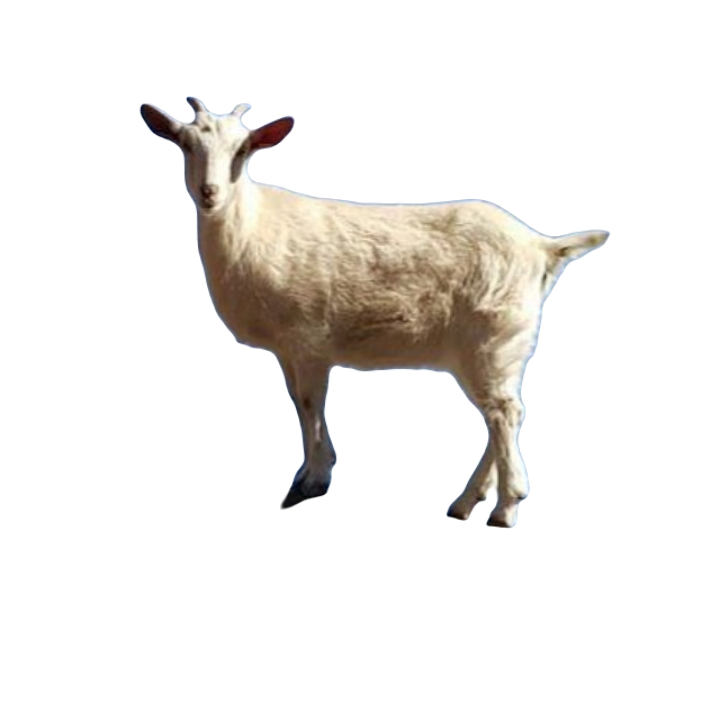Goat: (134, 90, 604, 529)
